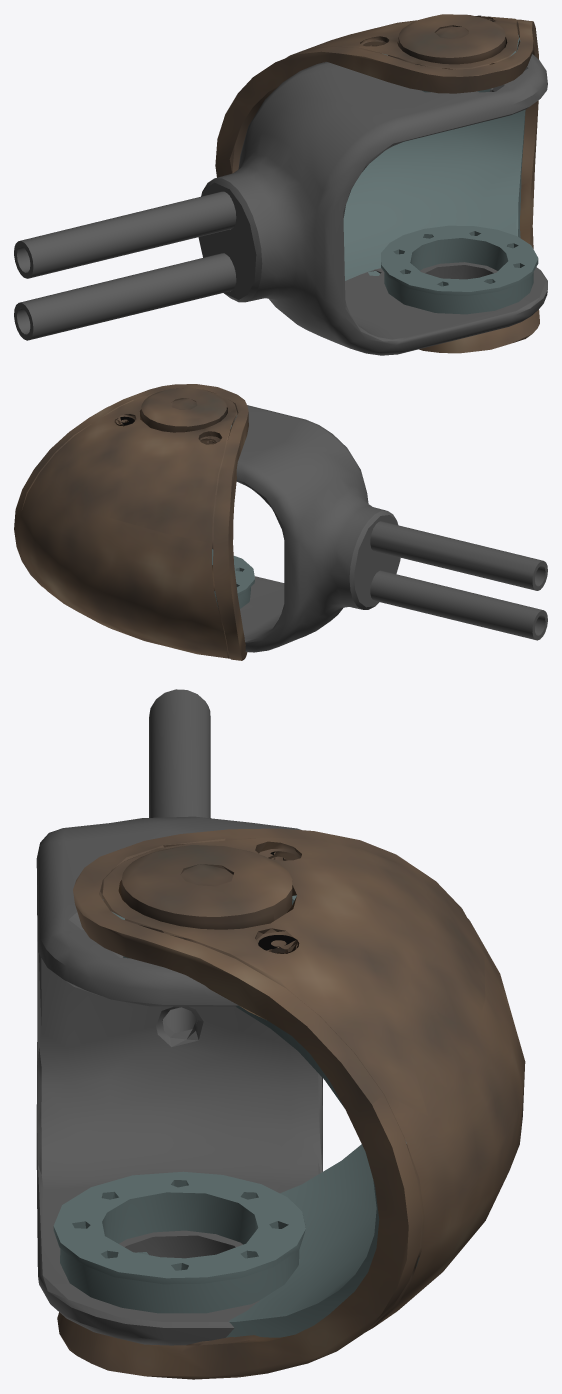
File: forearm_l.dae
3 renders of one model, top to bottom at view 1: azimuth 30°, elevation 25°; view 2: azimuth 150°, elevation 25°; view 3: azimuth 270°, elevation 25°, orthographic. The views are drawn at different scales.
Visible parts, largest first — view 1: forearm; view 2: forearm; view 3: forearm.
Part boxes in pixels (box(x1,y1,x2,y2)): forearm: box(14, 14, 547, 355); forearm: box(14, 384, 547, 660); forearm: box(36, 689, 525, 1379).
Size of the model in its own units: 0.1591 by 0.0717 by 0.0759.
3 materials, 1 textured.
